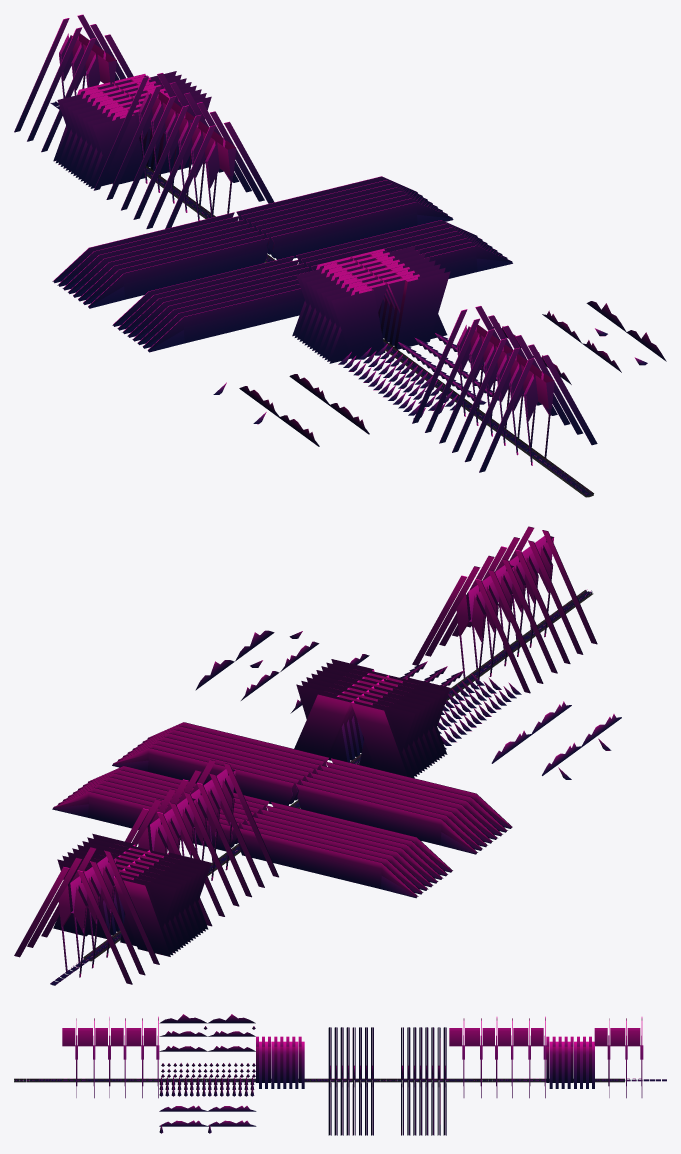
File: tonnels-detached.fbx
The picture shows the model from 3 angles, top to bottom: view 1: azimuth 30°, elevation 25°; view 2: azimuth 150°, elevation 25°; view 3: azimuth 270°, elevation 25°; orthographic projection. The views are drawn at different scales.
Visible parts, largest first — view 1: outher-tonnel_003, outher-tonnel_002, outher_tonnel_003, outher_tonnel_011, outher_tonnel_007, outher_tonnel_010, outher_tonnel_012, outher_tonnel_009, outher_tonnel_006, outher_tonnel_008, outher_tonnel_005; view 2: outher-tonnel_002, outher-tonnel_003, outher_tonnel_003, outher_tonnel_011, outher_tonnel_012, outher_tonnel_006, outher_tonnel_007, outher_tonnel_010, outher_tonnel_009, outher_tonnel_005, outher_tonnel_008; view 3: outher-tonnel_003, outher-tonnel_002, outher_tonnel_003, outher_tonnel_011, outher_tonnel_005, outher_tonnel_008, outher_tonnel_010, outher_tonnel_012, outher_tonnel_006, outher_tonnel_009, outher_tonnel_007.
Part boxes in pixels (x1,y1,x2,y2): outher-tonnel_003: (52, 176, 453, 308); outher-tonnel_002: (112, 220, 512, 352); outher_tonnel_003: (292, 246, 450, 363); outher_tonnel_011: (53, 71, 211, 188); outher_tonnel_007: (452, 335, 597, 472); outher_tonnel_010: (133, 102, 274, 228); outher_tonnel_012: (14, 14, 133, 152); outher_tonnel_009: (93, 73, 239, 210); outher_tonnel_006: (412, 306, 557, 443); outher_tonnel_008: (213, 301, 626, 417); outher_tonnel_005: (253, 330, 666, 446); outher-tonnel_002: (112, 722, 512, 854); outher-tonnel_003: (52, 766, 452, 898); outher_tonnel_003: (294, 659, 450, 778); outher_tonnel_011: (53, 833, 211, 956); outher_tonnel_012: (14, 847, 159, 984); outher_tonnel_006: (412, 555, 557, 693); outher_tonnel_007: (452, 526, 597, 663); outher_tonnel_010: (164, 759, 278, 897); outher_tonnel_009: (125, 788, 239, 926); outher_tonnel_005: (235, 630, 621, 750); outher_tonnel_008: (195, 660, 581, 779); outher-tonnel_003: (401, 1027, 446, 1135); outher-tonnel_002: (328, 1027, 373, 1135); outher_tonnel_003: (256, 1036, 304, 1088); outher_tonnel_011: (546, 1036, 594, 1088); outher_tonnel_005: (159, 1014, 207, 1133); outher_tonnel_008: (207, 1014, 256, 1133); outher_tonnel_010: (449, 1017, 497, 1098); outher_tonnel_012: (594, 1017, 643, 1098); outher_tonnel_006: (111, 1016, 159, 1098); outher_tonnel_009: (498, 1016, 546, 1098); outher_tonnel_007: (62, 1017, 110, 1098).
Bounding box in the file's own units: 608 × 157 × 1440.
